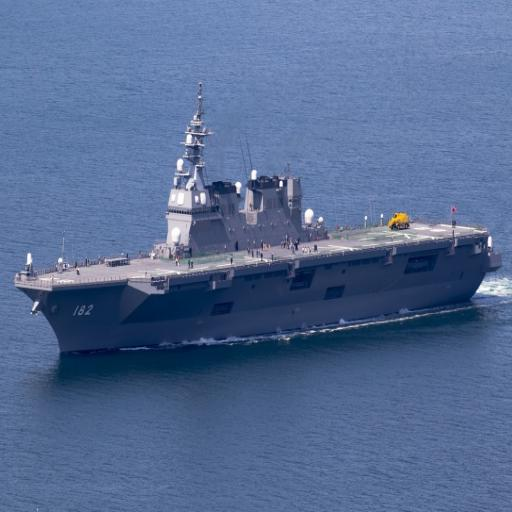Portanaves: (12, 81, 508, 362)
